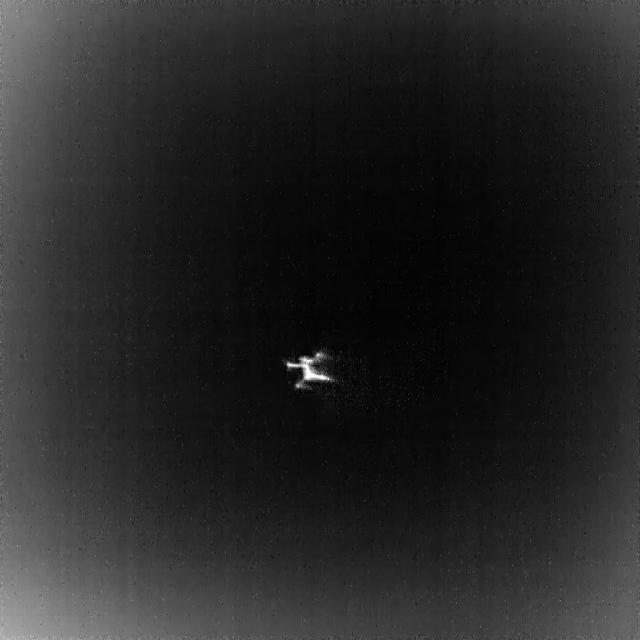drone: (284, 350, 336, 392)
